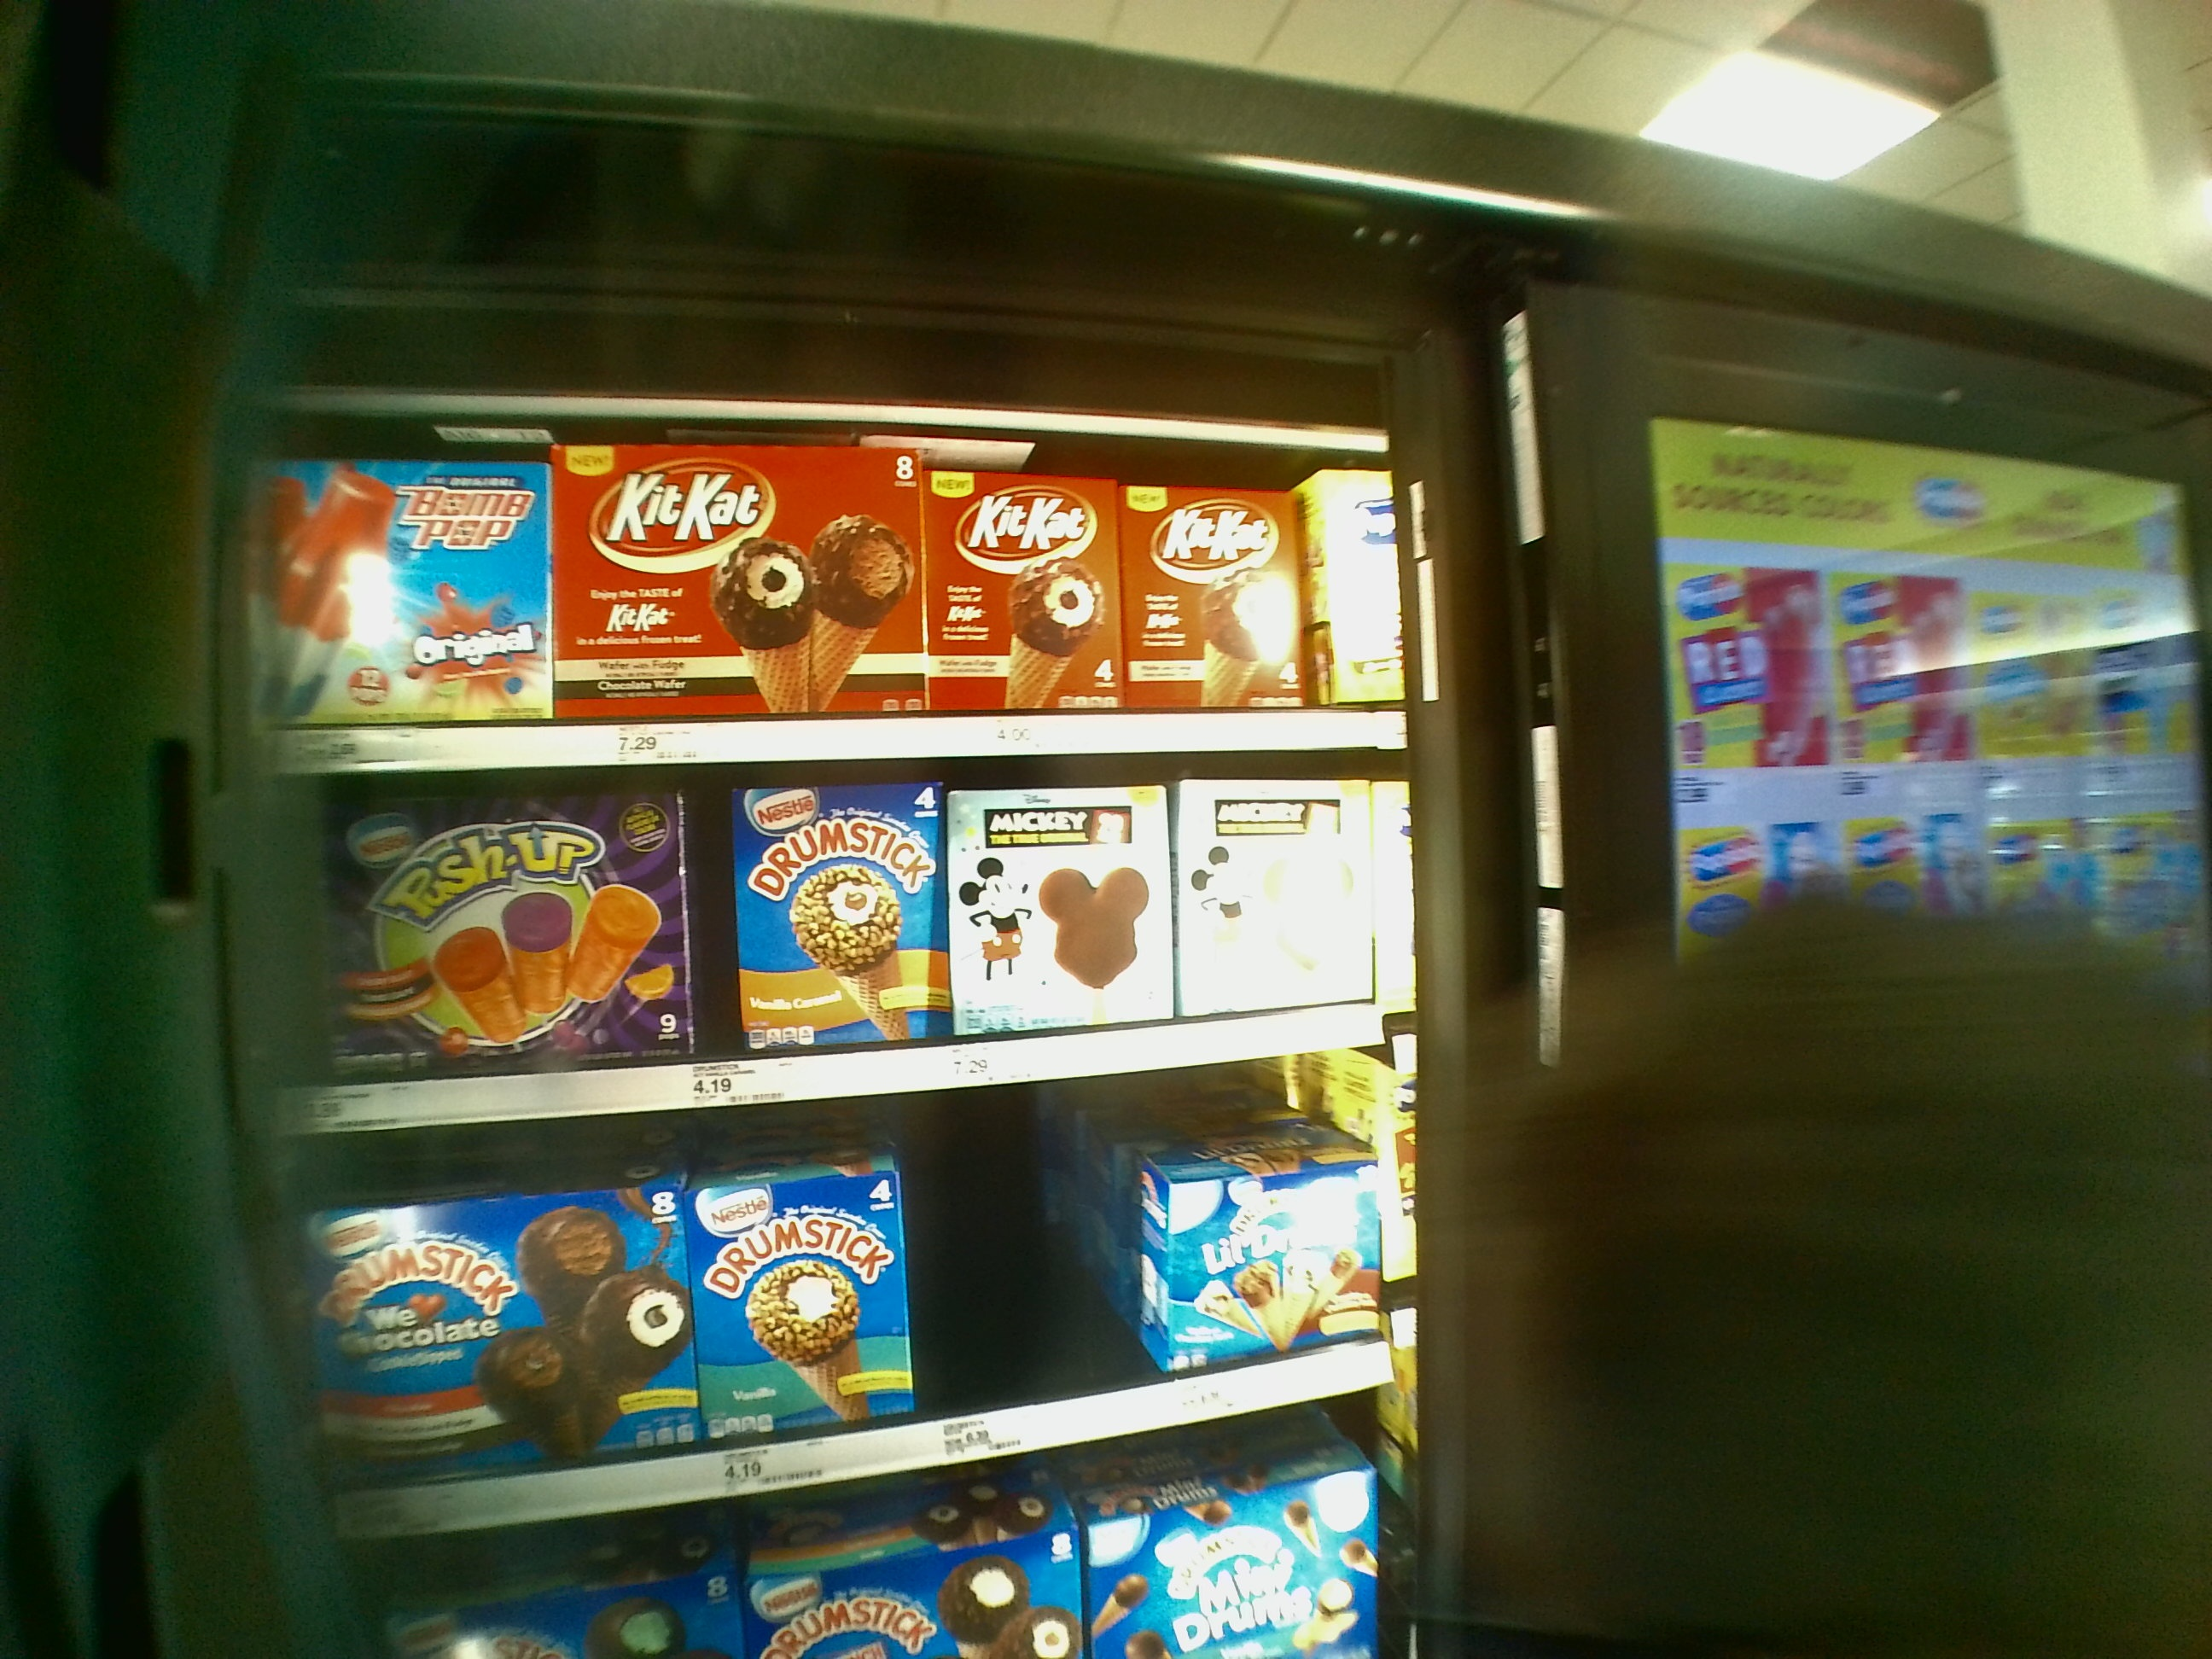shelf: (326, 1075, 1418, 1483), (258, 410, 1402, 777), (275, 774, 1413, 1082)
